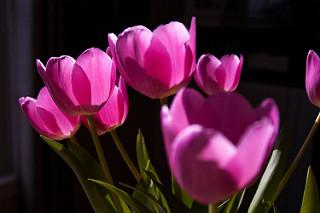tulip: (161, 88, 278, 202), (108, 16, 198, 98), (36, 48, 114, 111)
